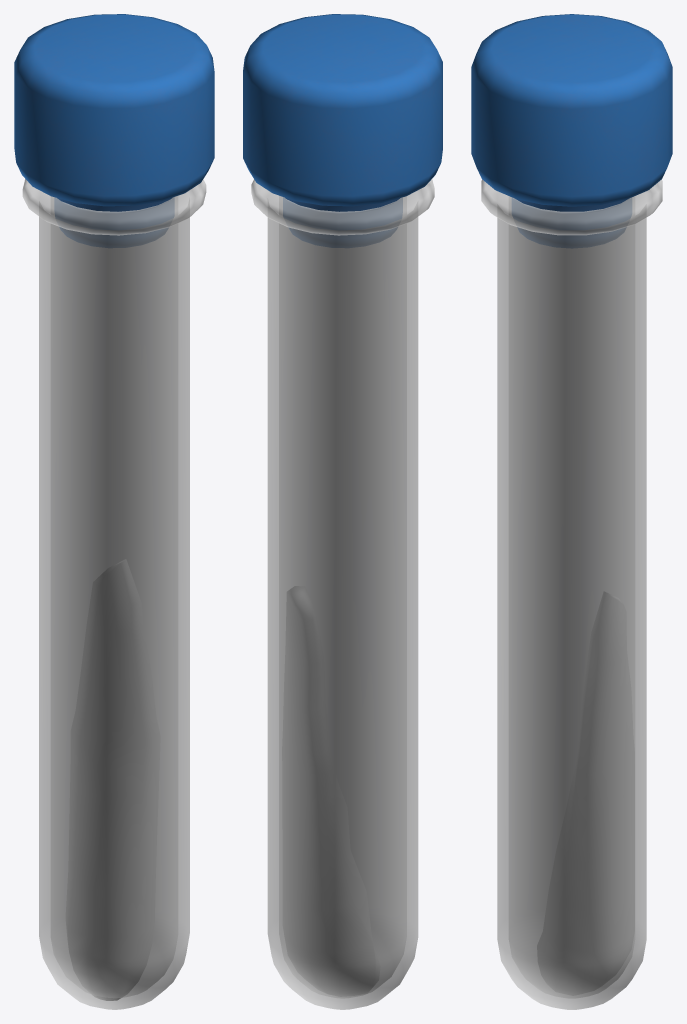
Rendered from SM_Citrato.fbx.
3 views of the same model, side by side, from view 1: azimuth 30°, elevation 25°; view 2: azimuth 150°, elevation 25°; view 3: azimuth 270°, elevation 25° (orthographic).
Visible parts, largest first — view 1: polySurface30; view 2: polySurface30; view 3: polySurface30.
Boxes of the visible parts, x1,y1,x2,y2 form: polySurface30: (14,14,214,1009); polySurface30: (243,14,442,1009); polySurface30: (471,14,672,1009).
Bounding box in the file's own units: 2.96 × 15.49 × 2.96.
